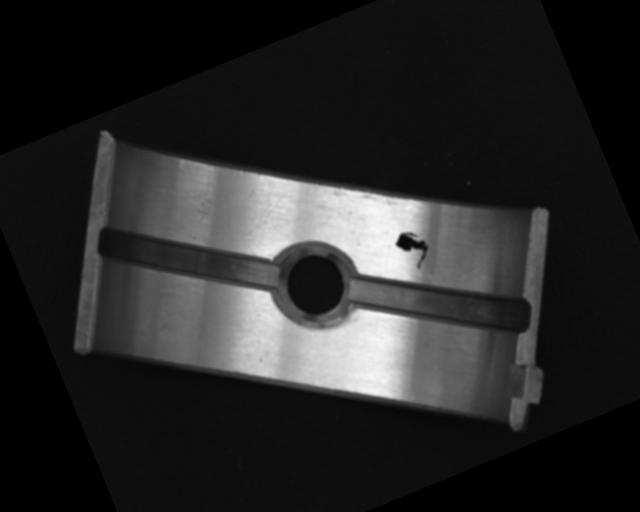blot: (391, 225, 436, 275)
gap: (92, 174, 286, 344), (345, 222, 535, 388)
hole: (271, 238, 363, 333)
